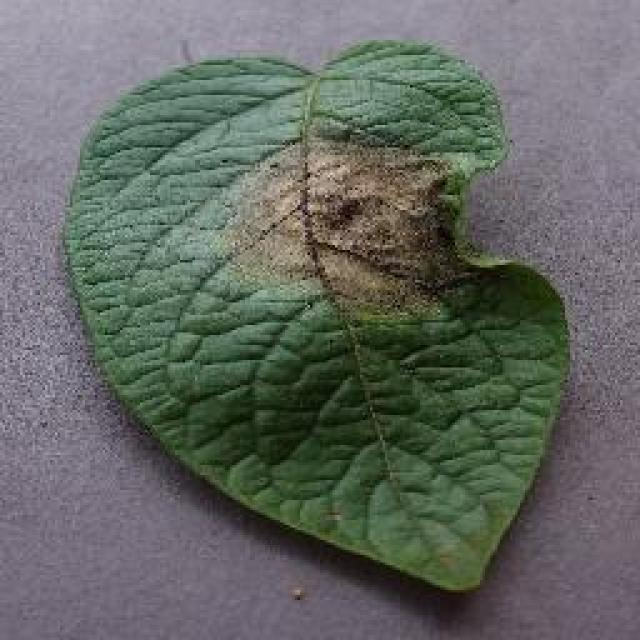Potato___Late_blight: (57, 32, 571, 594)
